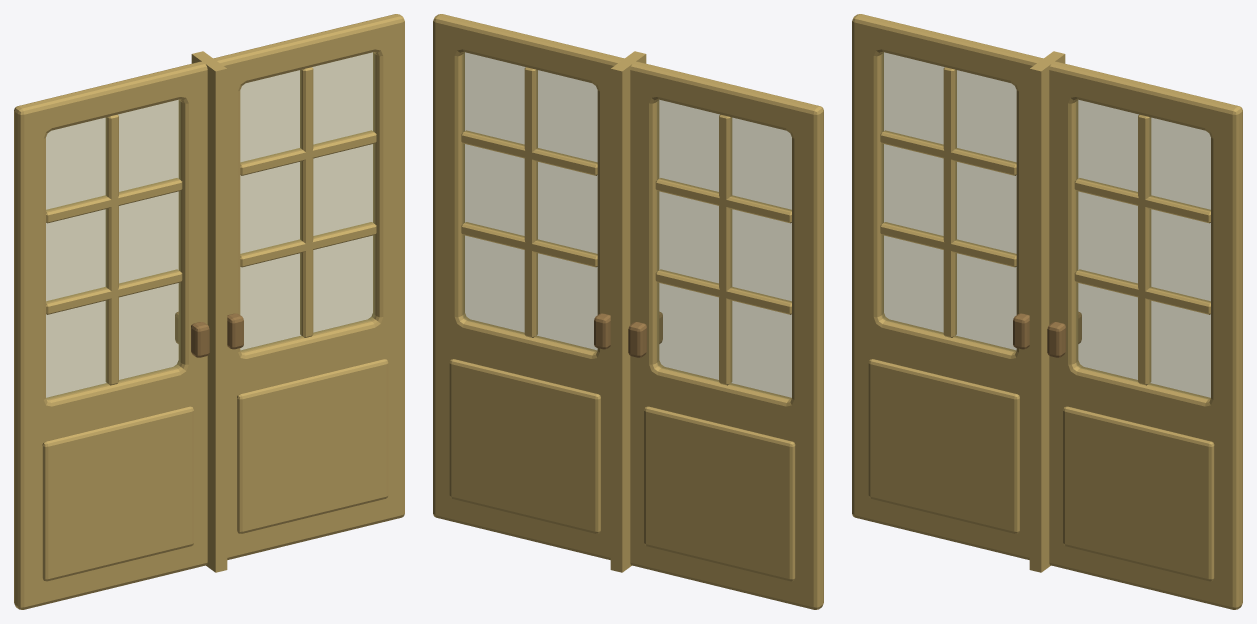
File: SM_Kit_Door2_Glass.glb
The picture shows the model from 3 angles, left to right: view 1: azimuth 30°, elevation 25°; view 2: azimuth 150°, elevation 25°; view 3: azimuth 330°, elevation 25°; orthographic projection.
Visible parts, largest first — view 1: SM_Kit_Door2_Glass; view 2: SM_Kit_Door2_Glass; view 3: SM_Kit_Door2_Glass.
Part boxes in pixels (x1,y1,x2,y2): SM_Kit_Door2_Glass: (14, 14, 404, 609); SM_Kit_Door2_Glass: (433, 14, 823, 609); SM_Kit_Door2_Glass: (852, 14, 1242, 609).
Size of the model in its own units: 1.68 by 2.08 by 0.18.
